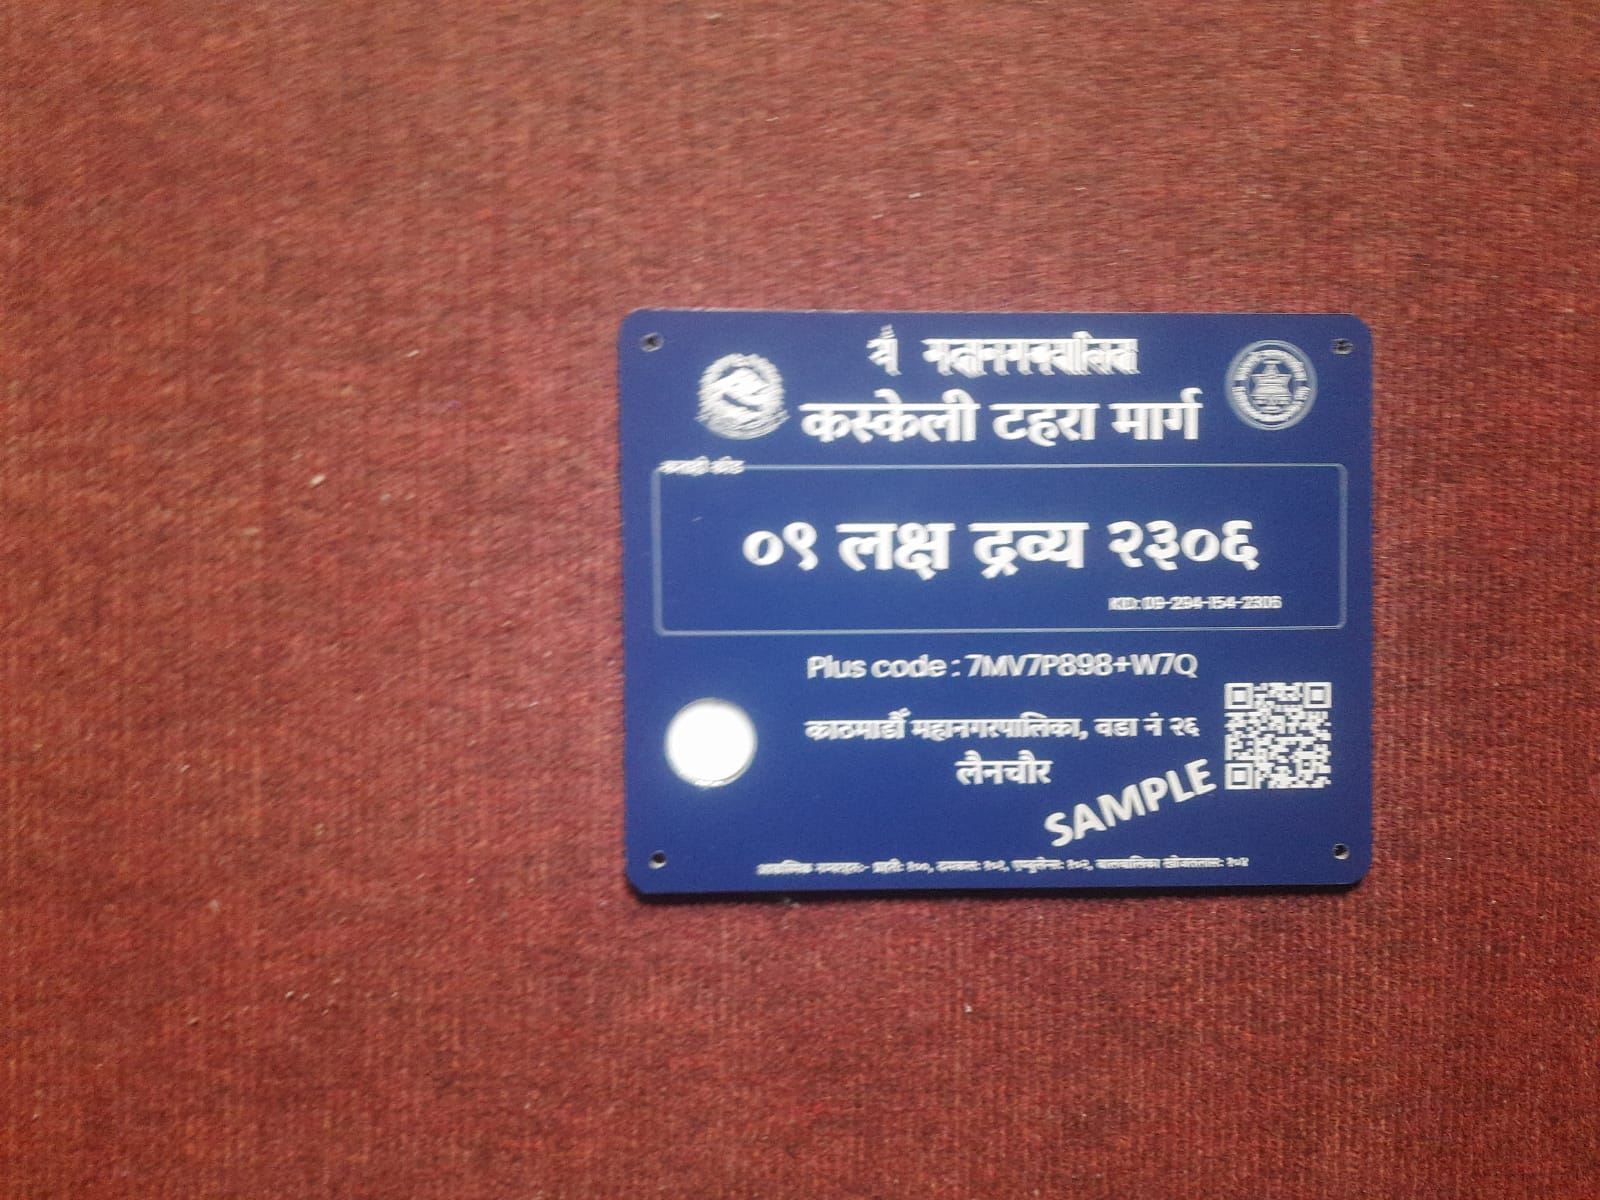Plate: (616, 306, 1378, 897)
